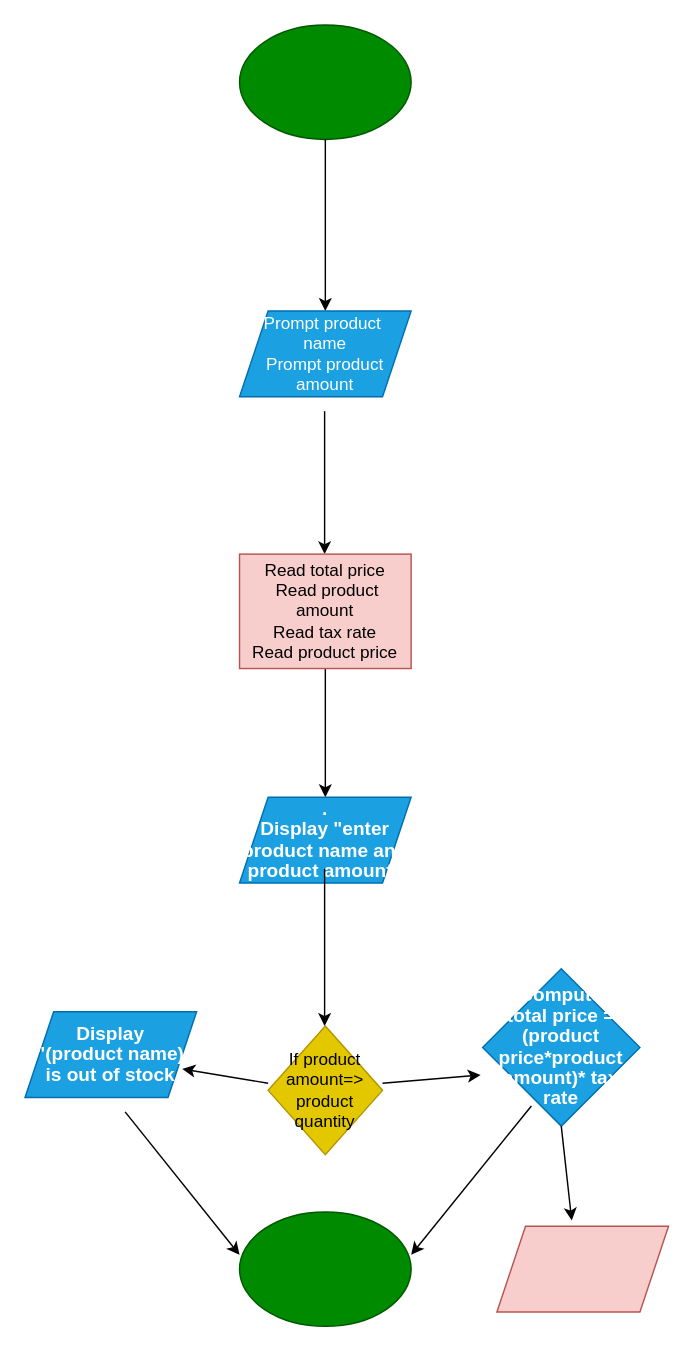
Image size: 694x1351. Some labels were removed from this diagram. Here are the shapes that lost their labels. From the top down, the centre of each, then its label:
the point at 324,81: Start
the point at 324,1268: stop
the point at 582,1268: Dispaly total price
